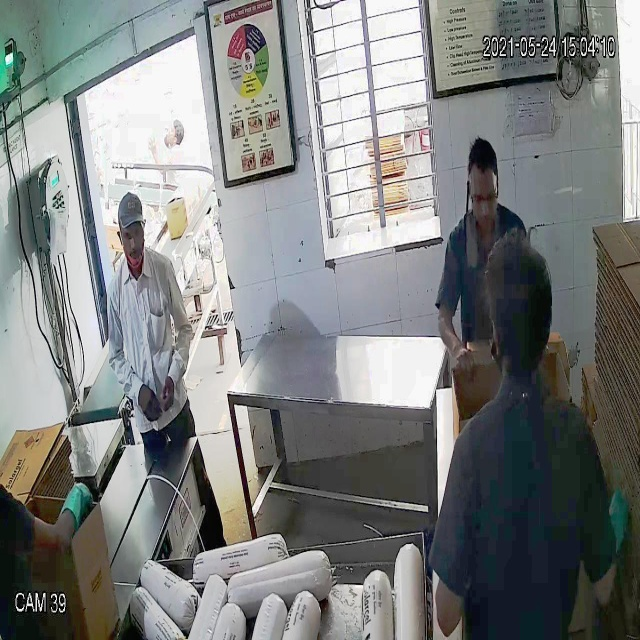Sin_gafas: (113, 221, 147, 248)
